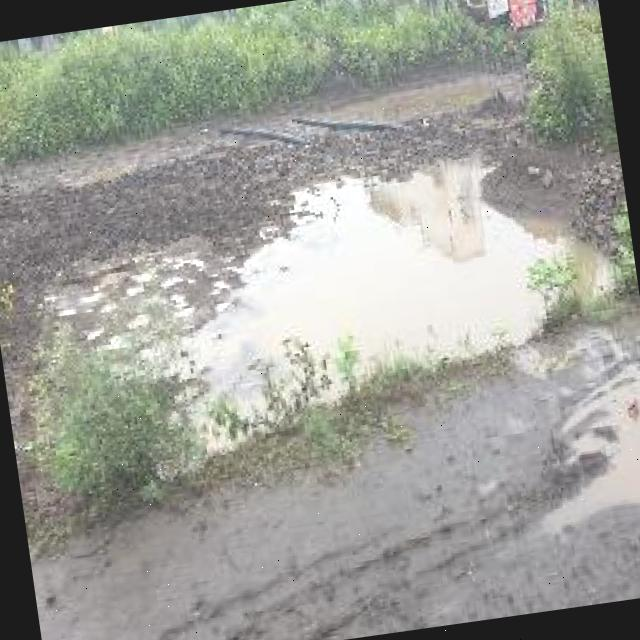waterlogging: (37, 156, 631, 416)
